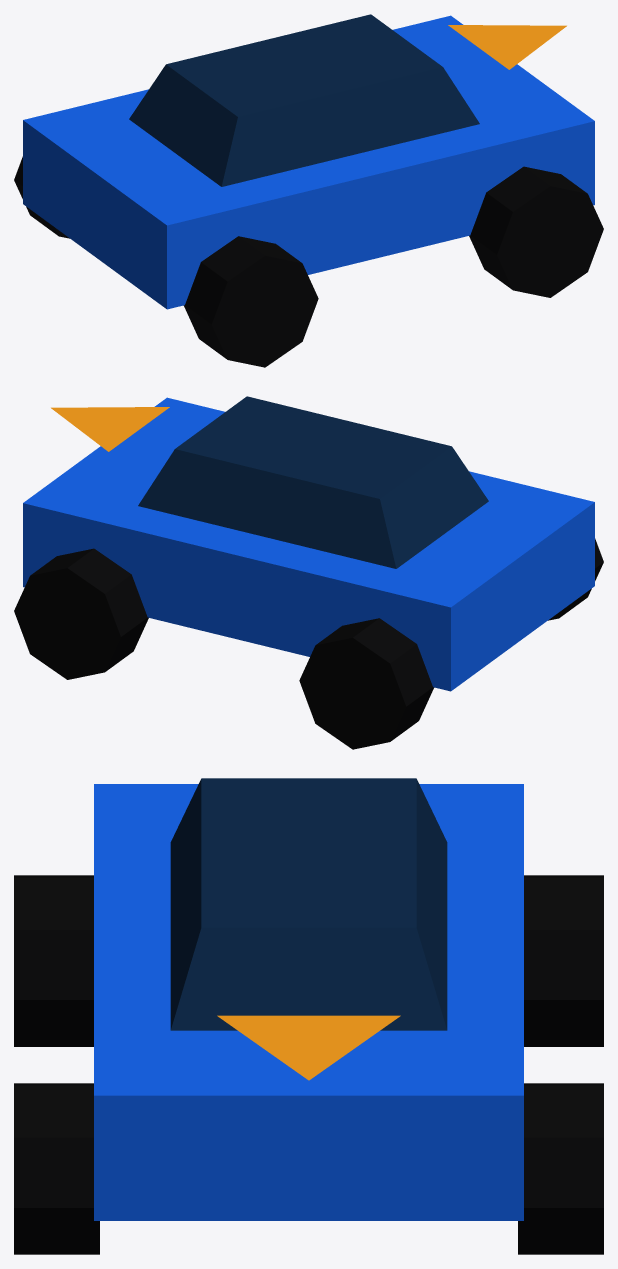
The picture shows the model from 3 angles, top to bottom: view 1: azimuth 30°, elevation 25°; view 2: azimuth 150°, elevation 25°; view 3: azimuth 270°, elevation 25°; orthographic projection. The views are drawn at different scales.
Visible parts, largest first — view 1: body, deck, wheel_fr, wheel_rr, front; view 2: body, deck, wheel_fl, wheel_rl, front; view 3: body, deck, wheel_fl, wheel_fr, wheel_rl, wheel_rr, front.
Boxes of the visible parts, <box> form: body: <box>23,15,594,309</box>; deck: <box>129,14,479,186</box>; wheel_fr: <box>469,166,603,297</box>; wheel_rr: <box>183,236,318,367</box>; front: <box>448,25,566,69</box>; body: <box>23,397,594,691</box>; deck: <box>138,396,488,568</box>; wheel_fl: <box>14,548,148,679</box>; wheel_rl: <box>299,618,434,749</box>; front: <box>51,407,169,451</box>; body: <box>94,784,523,1220</box>; deck: <box>170,778,447,1030</box>; wheel_fl: <box>518,1083,603,1254</box>; wheel_fr: <box>14,1083,99,1254</box>; wheel_rl: <box>524,875,603,1046</box>; wheel_rr: <box>14,875,93,1046</box>; front: <box>217,1015,400,1080</box>.
Size of the model in its own units: 0.265 by 0.192 by 0.105.
